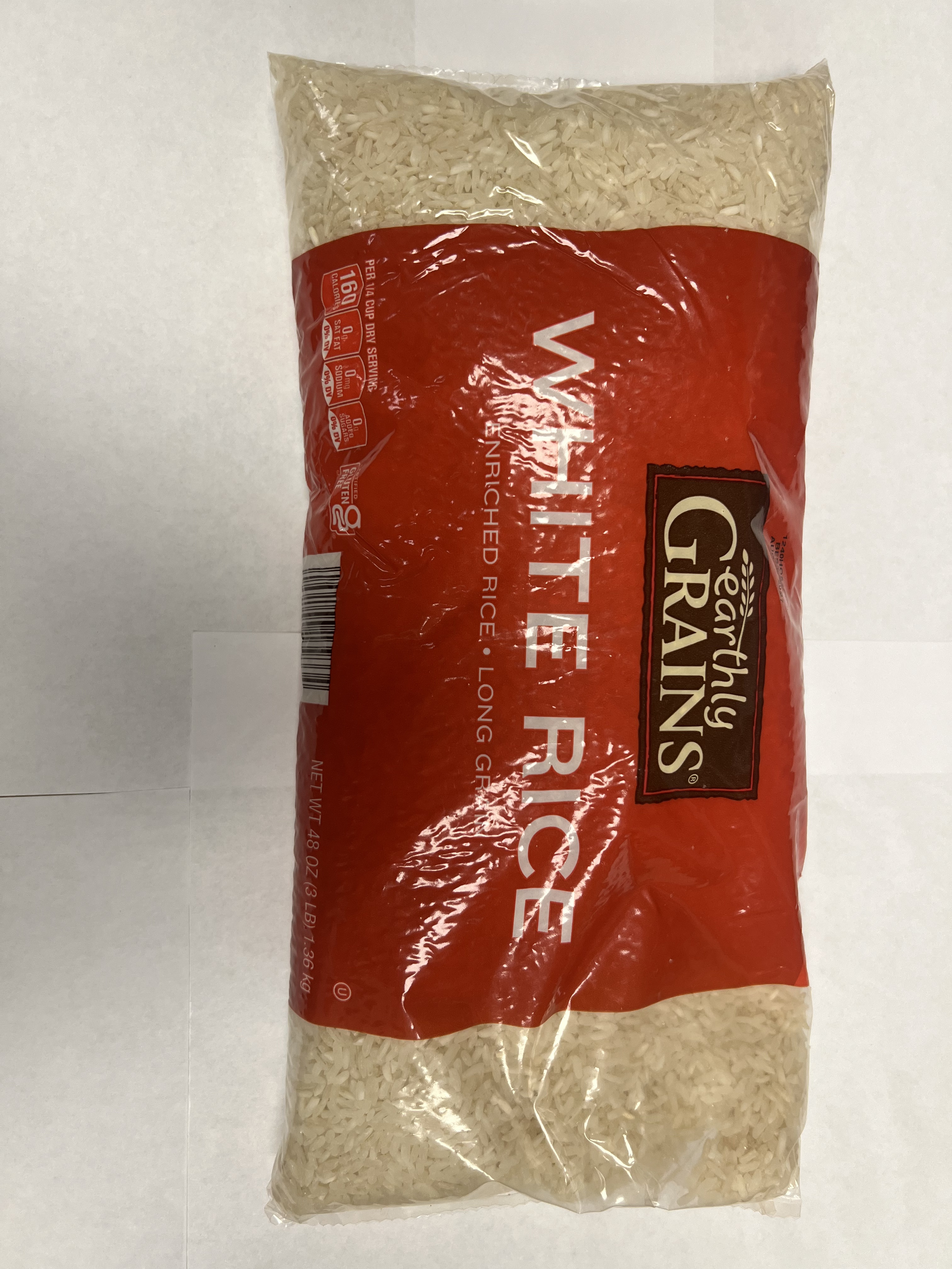packaged: (255, 46, 833, 1227)
